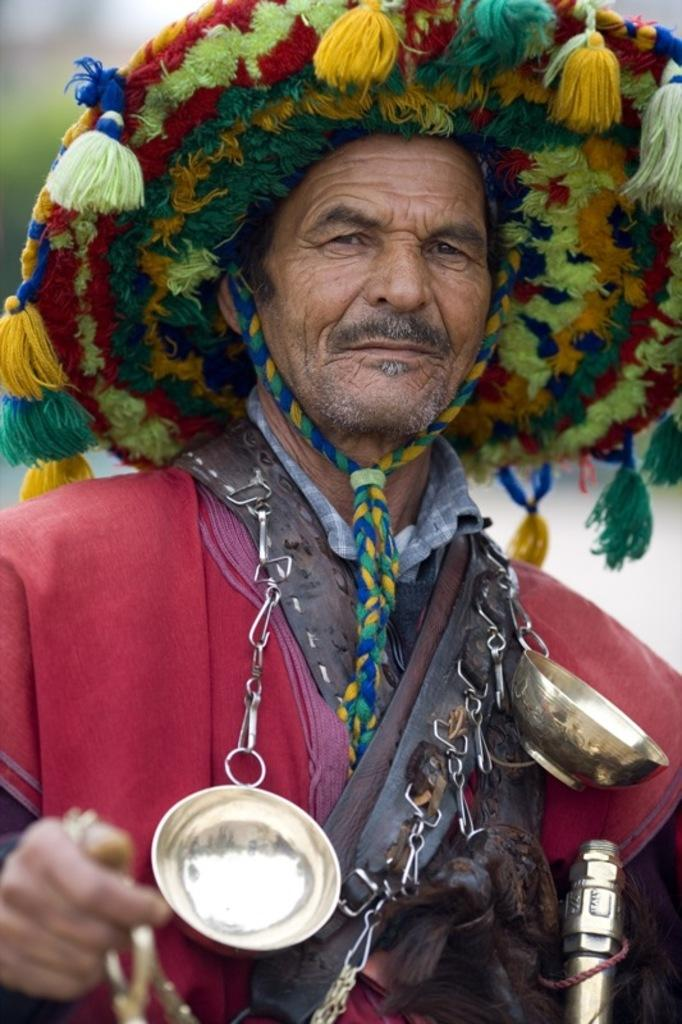Hat: (0, 0, 680, 568)
